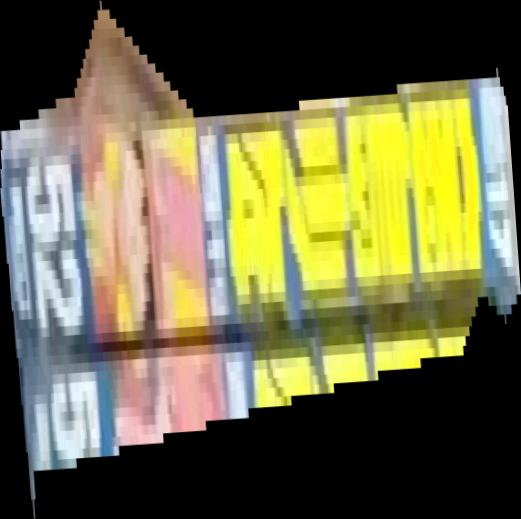flat: (1, 1, 521, 519)
